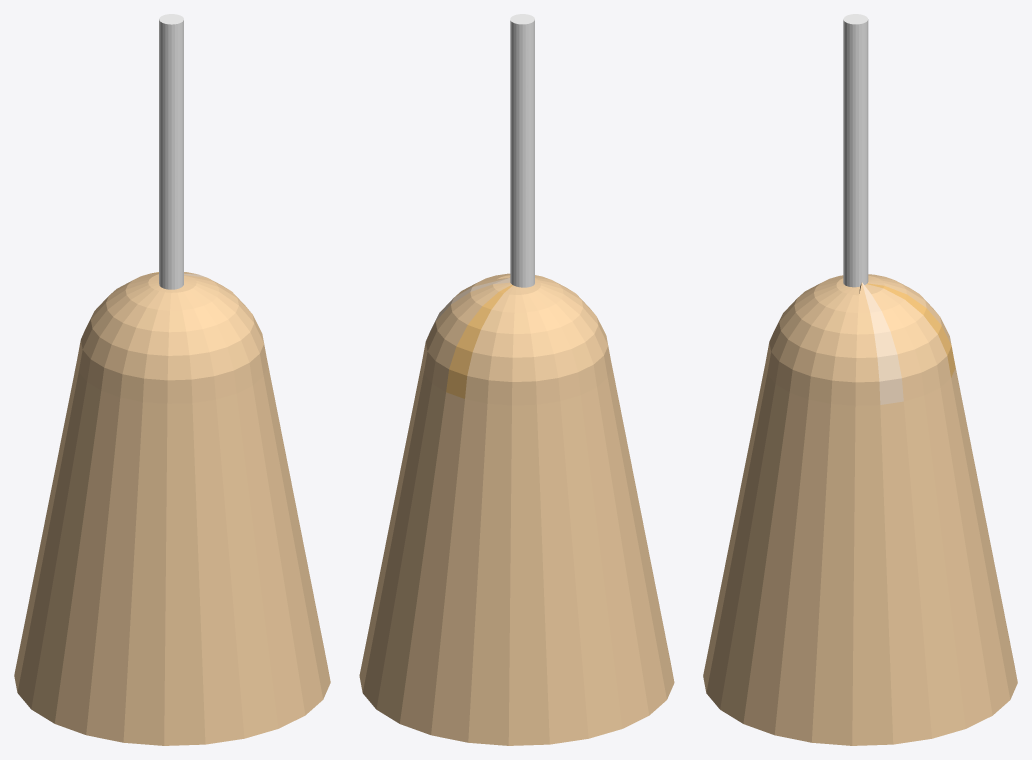
Rendered from Chicken Leg.glb.
3 renders of one model, left to right at view 1: azimuth 30°, elevation 25°; view 2: azimuth 150°, elevation 25°; view 3: azimuth 270°, elevation 25°, orthographic.
Visible parts, largest first — view 1: Model; view 2: Model; view 3: Model.
Boxes of the visible parts, <box> form: Model: <box>14,14,330,745</box>; Model: <box>359,14,674,745</box>; Model: <box>703,14,1017,745</box>.
Bounding box in the file's own units: 0.0644 × 0.1487 × 0.0644.
